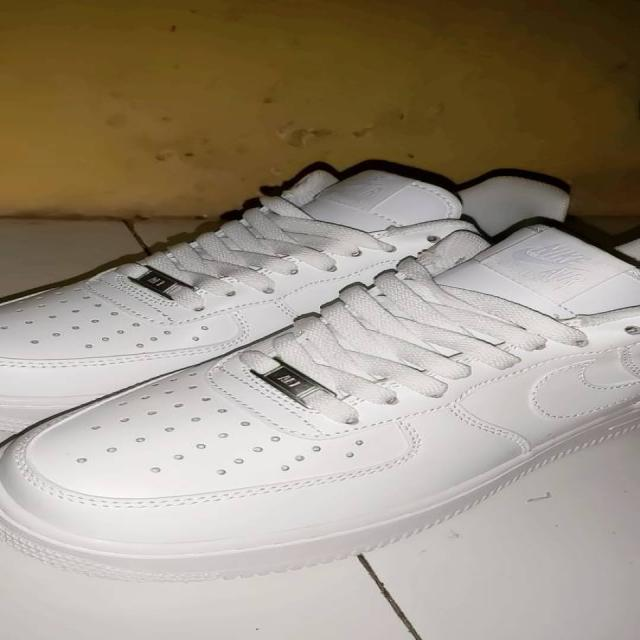nike original air force: (3, 218, 640, 580), (0, 160, 637, 407)
